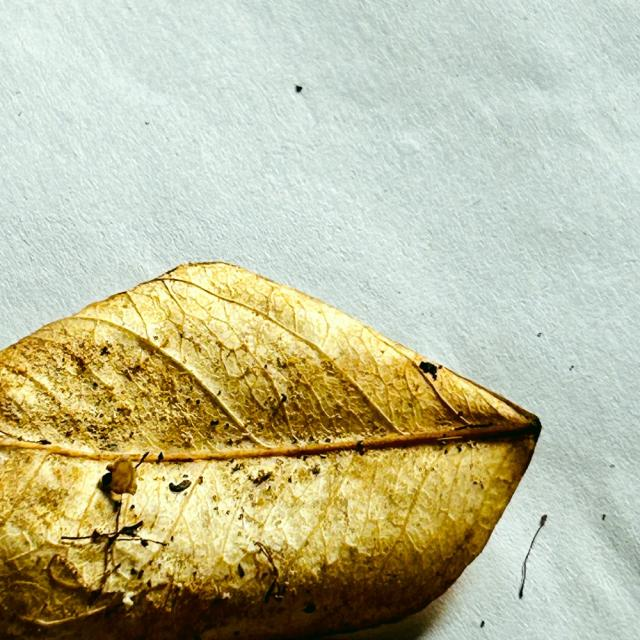DryLeaf_Lemon: (0, 262, 540, 639)
